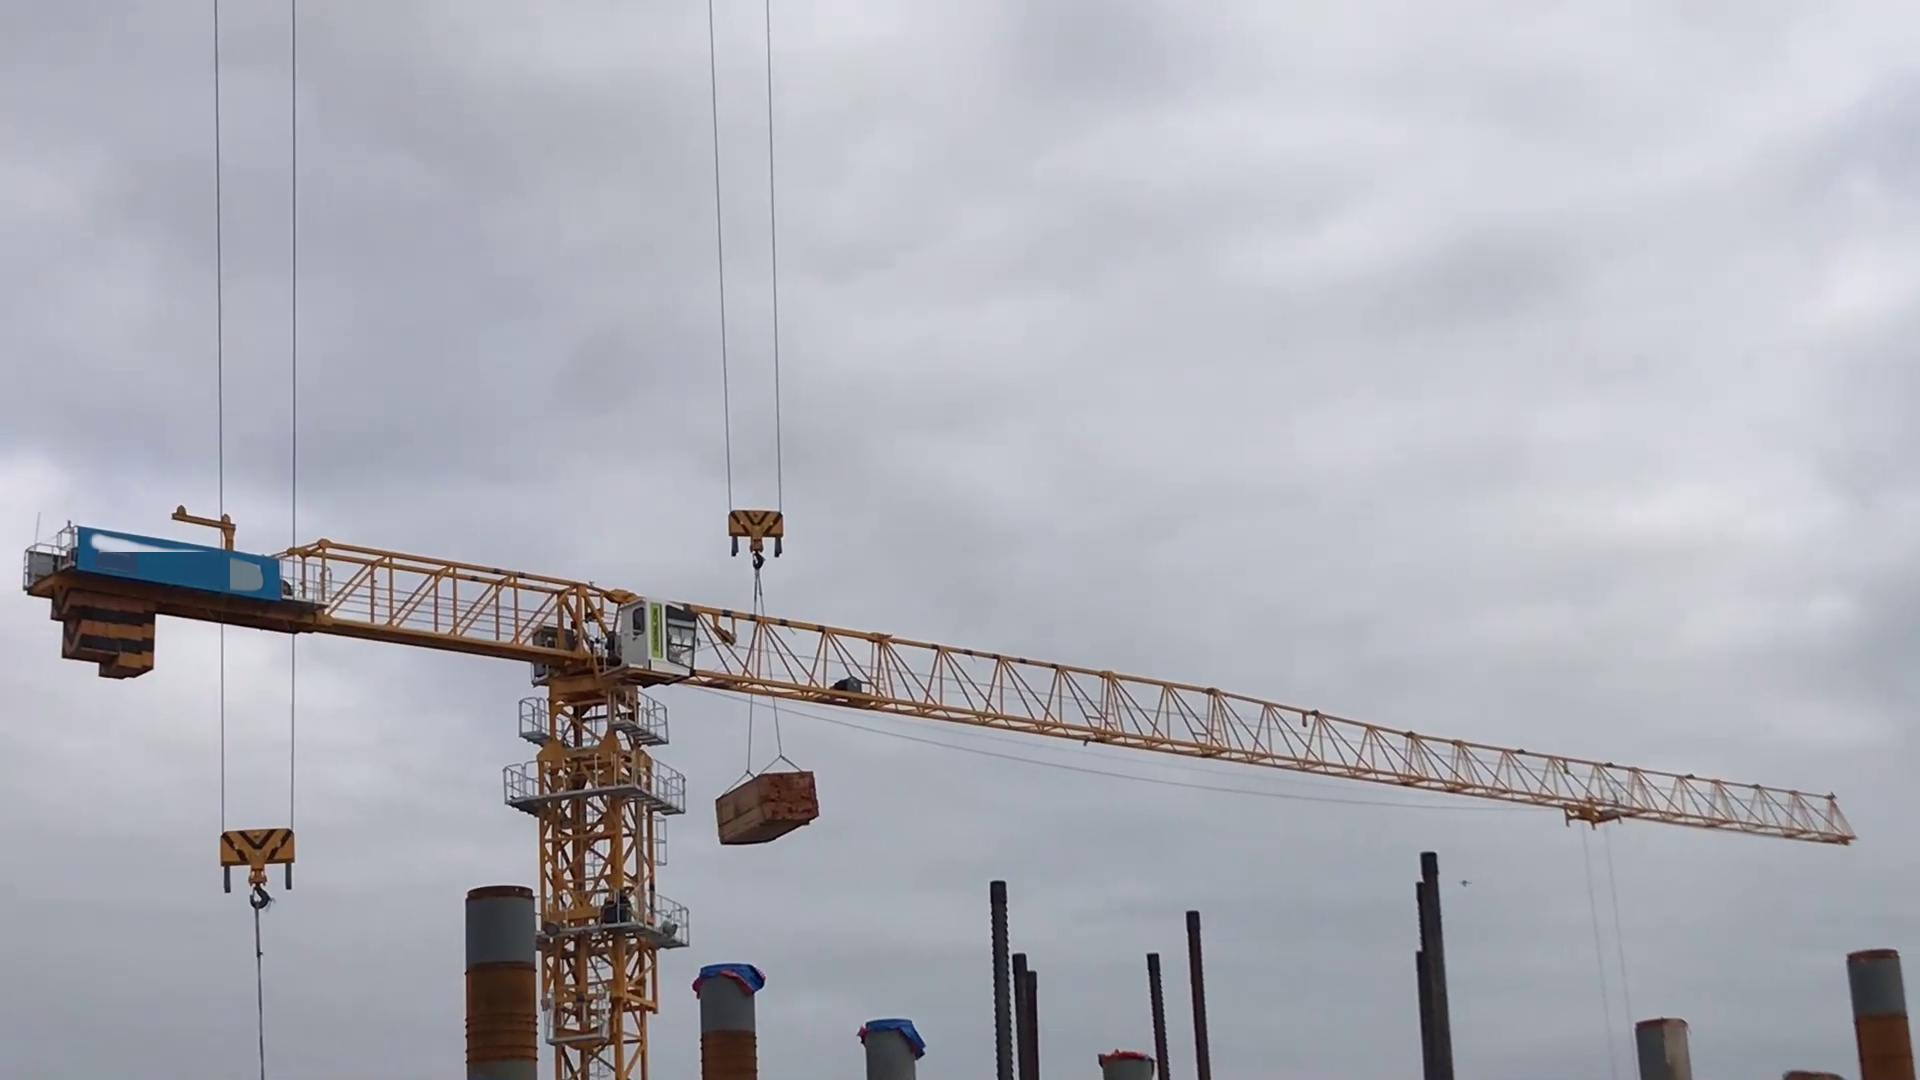hook: (731, 500, 800, 575)
wood: (712, 762, 825, 857)
